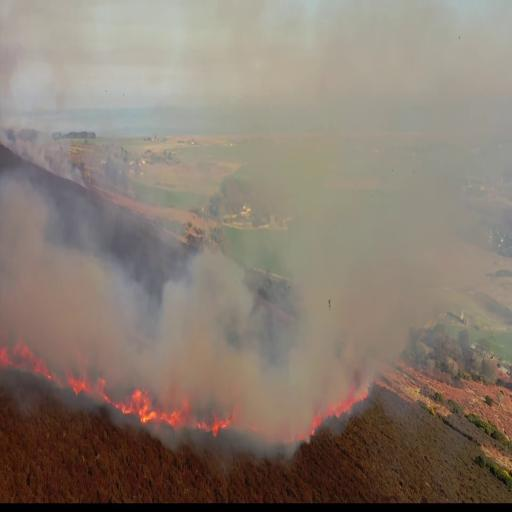fire: (126, 388, 188, 428), (327, 389, 362, 420)
smoke: (310, 6, 502, 190), (169, 248, 249, 382), (0, 254, 122, 339), (314, 224, 399, 344), (0, 180, 56, 326)
